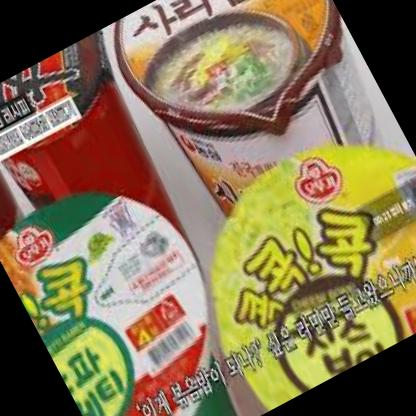Ramen: (101, 0, 416, 265), (155, 105, 416, 416), (0, 147, 280, 416), (0, 36, 222, 351)
